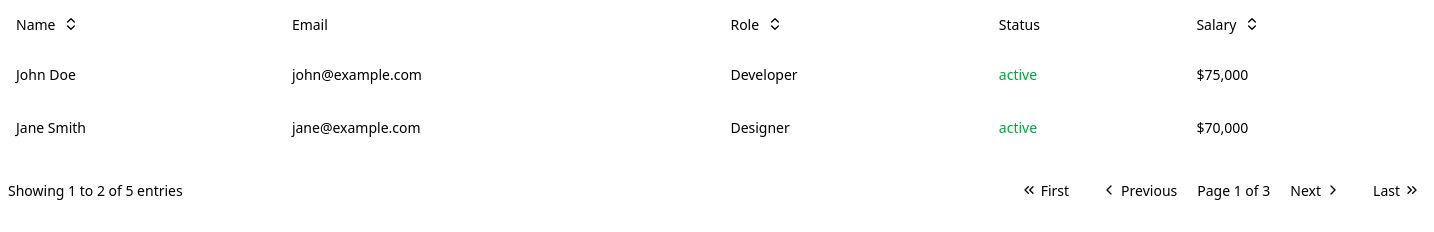
Test: DataTable Component › Pagination › maintains current page when sorting
Go to page 2
Click the button "Next": {"x": 1316, "y": 190} [1278, 170, 1353, 210]
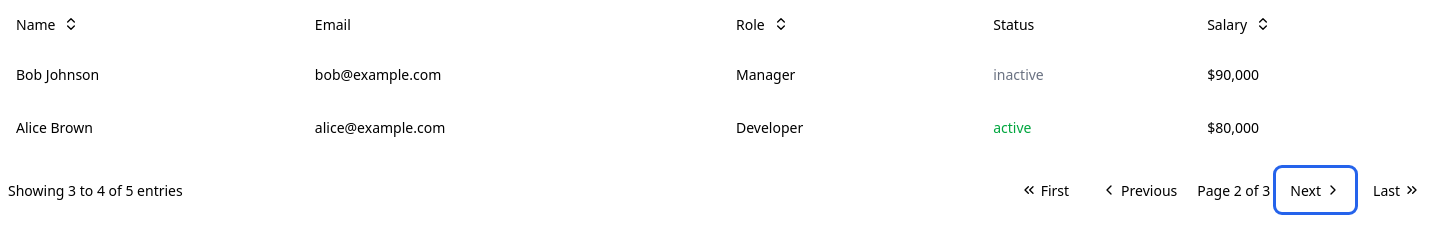
Check: the text "Page 2 of 3" is shown, box [1197, 180, 1270, 200]
Sort by name
Click the column heading "Name": {"x": 36, "y": 24} [0, 0, 299, 48]
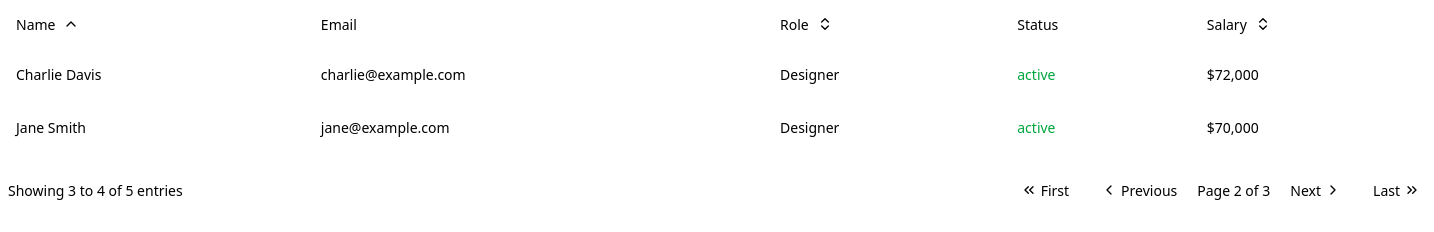
Check: the text "Page 2 of 3" is shown, box [1197, 180, 1270, 200]
Check: the text "Charlie Davis" is shown, box [0, 48, 305, 101]
